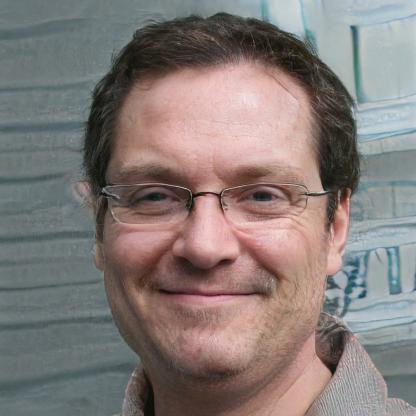glasses: (99, 176, 322, 228)
